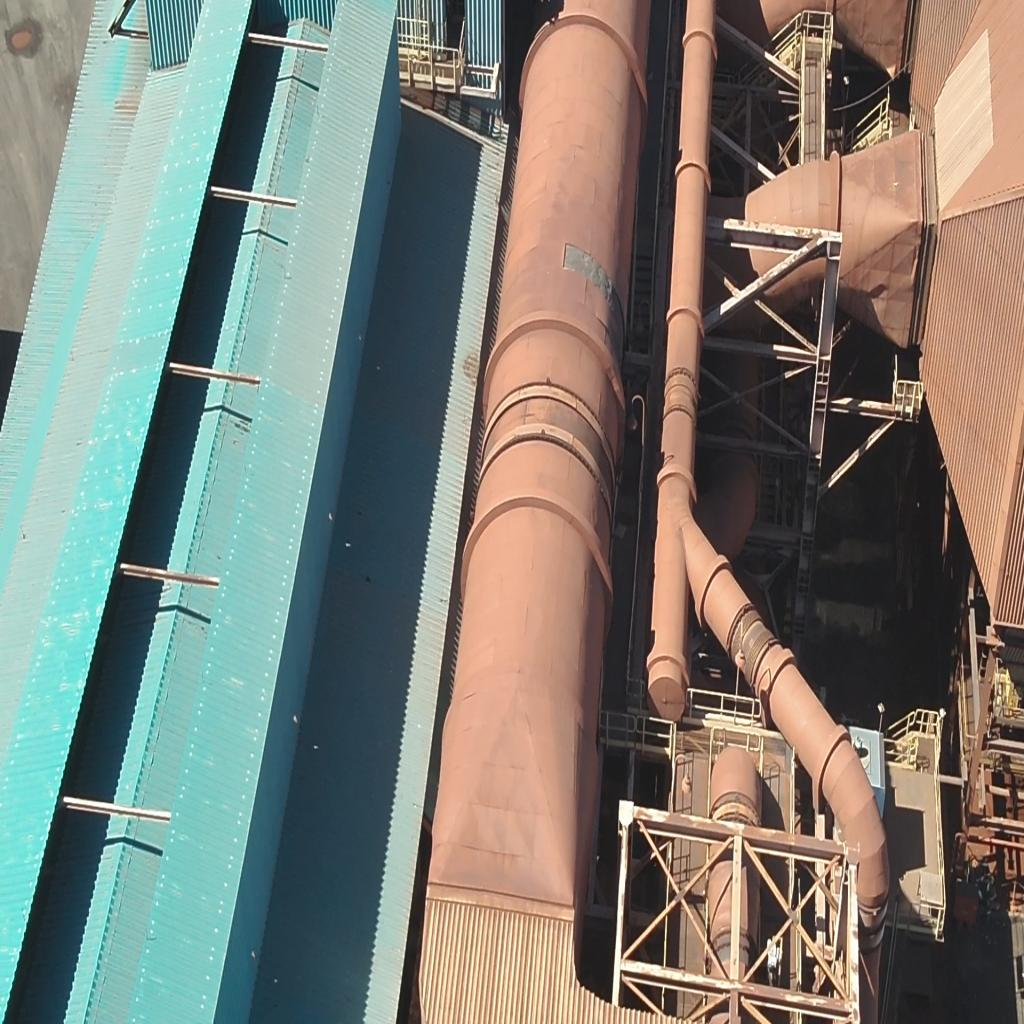Failures: (560, 236, 628, 346)
